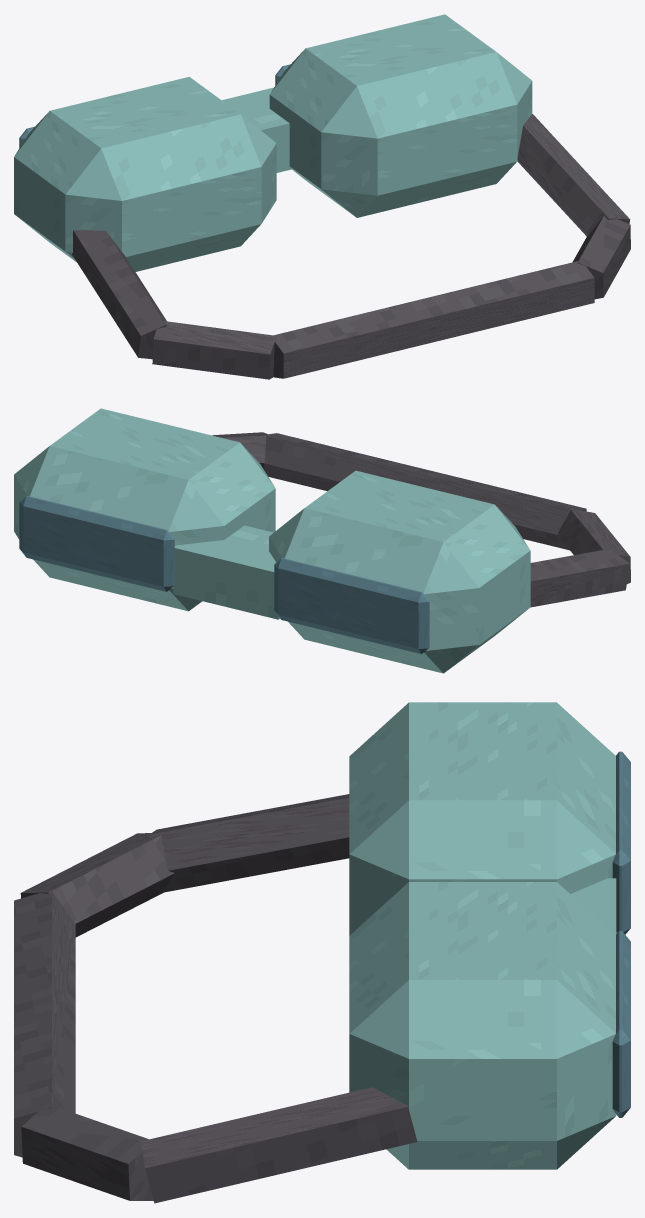
File: glass_goggles.glb
3 views of the same model, one above another, from view 1: azimuth 30°, elevation 25°; view 2: azimuth 150°, elevation 25°; view 3: azimuth 270°, elevation 25° (orthographic). The views are drawn at different scales.
Parts seen in each view (by area): view 1: block_eyepiece (×2), block_elastic back strap 2, block_elastic back strap 0, block_elastic back strap 1, block_elastic back strap 4, block_elastic back strap 3, block_bridge; view 2: block_eyepiece (×2), block_lens (×2), block_elastic back strap 2, block_bridge, block_elastic back strap 0, block_elastic back strap 1, block_elastic back strap 3; view 3: block_eyepiece (×2), block_elastic back strap 4, block_elastic back strap 2, block_elastic back strap 0, block_elastic back strap 3, block_elastic back strap 1, block_lens (×2), block_bridge.
Boxes of the visible parts, <box> form: block_eyepiece (×2): <box>14,14,532,271</box>; block_elastic back strap 2: <box>270,260,594,378</box>; block_elastic back strap 0: <box>72,230,166,359</box>; block_elastic back strap 1: <box>152,321,276,379</box>; block_elastic back strap 4: <box>517,114,630,236</box>; block_elastic back strap 3: <box>573,216,630,299</box>; block_bridge: <box>222,87,292,172</box>; block_eyepiece (×2): <box>14,408,530,673</box>; block_lens (×2): <box>19,496,429,653</box>; block_elastic back strap 2: <box>263,433,586,550</box>; block_bridge: <box>173,525,279,619</box>; block_elastic back strap 0: <box>530,548,629,607</box>; block_elastic back strap 1: <box>557,508,630,583</box>; block_elastic back strap 3: <box>212,432,270,470</box>; block_eyepiece (×2): <box>349,702,616,1169</box>; block_elastic back strap 4: <box>141,1087,417,1203</box>; block_elastic back strap 2: <box>14,889,75,1157</box>; block_elastic back strap 0: <box>149,794,349,892</box>; block_elastic back strap 3: <box>21,1104,153,1200</box>; block_elastic back strap 1: <box>20,833,174,937</box>; block_lens (×2): <box>612,751,630,1117</box>; block_bridge: <box>570,878,616,934</box>.
Size of the model in its own units: 0.114 by 0.0334 by 0.0873.
1 material, 1 textured.
